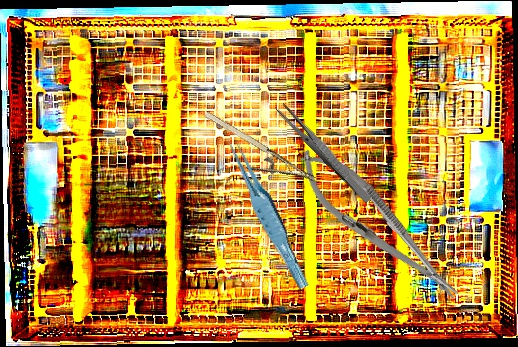Dressing Forceps: (274, 101, 376, 205)
Needle Holder: (285, 136, 472, 315), (192, 108, 320, 205)
Tissue Forceps: (225, 130, 310, 294)
